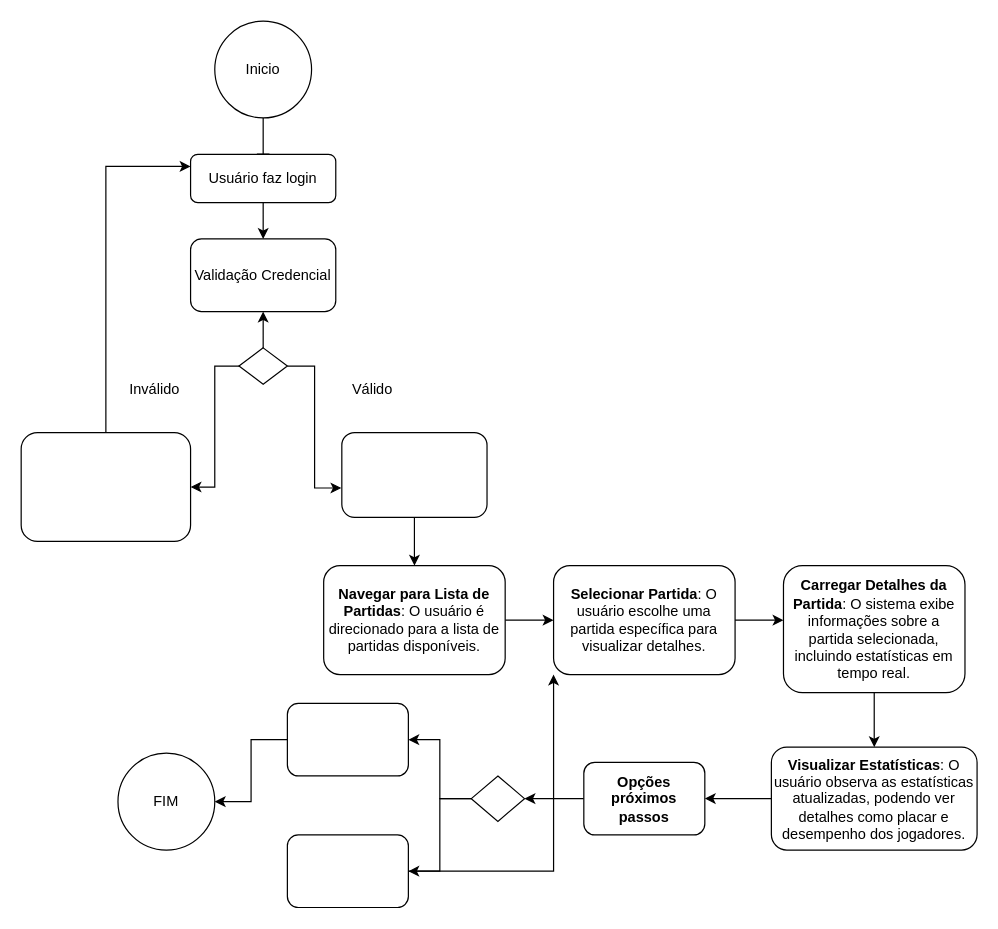
This 998x929 diagram has some shape labels left out. The shapes that lost their labels are listed below. From the top down, each one's box as (x1, y1, x2, y2) in pixels, then its label:
(20, 431, 191, 541): Exibe mensagem de erro. Redireciona o usuário de volta ao login.
(341, 431, 487, 517): Passa para o próximo passo.
(286, 702, 408, 776): O usuário pode atualizar as estatísticas em tempo real.
(286, 834, 408, 908): Ou retornar à lista de partidas para escolher outra.
